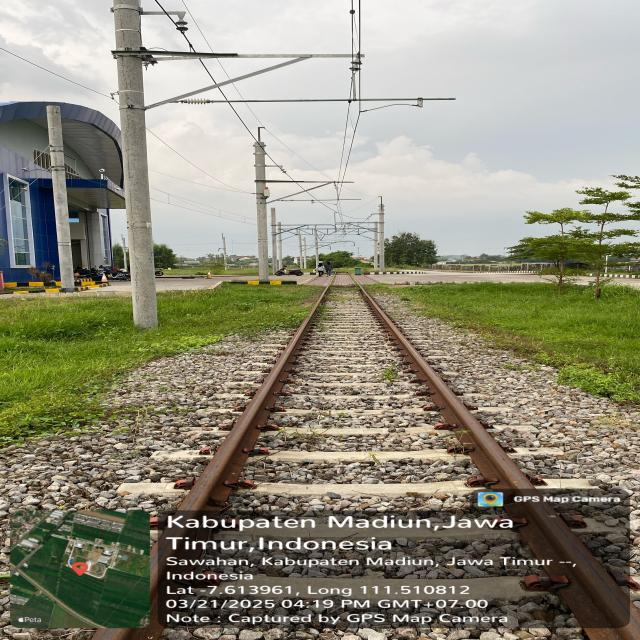rail-detection: (360, 288, 632, 637), (180, 291, 325, 511)
